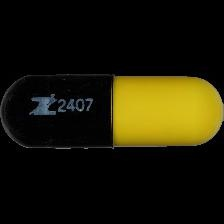67046-728: (0, 0, 224, 224)
